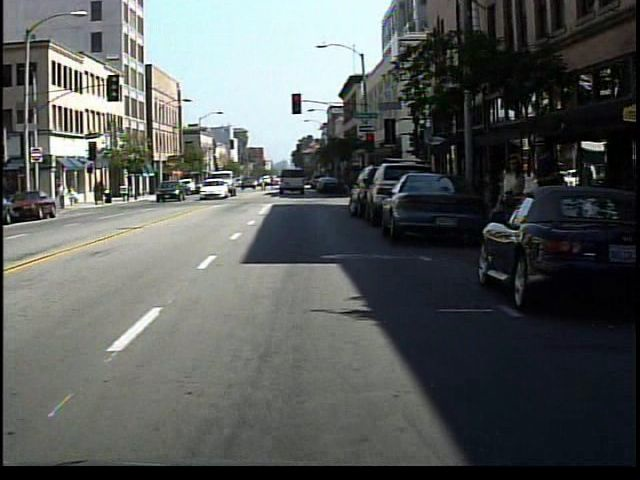person: (530, 133, 567, 269), (499, 153, 527, 264), (56, 181, 70, 213), (68, 183, 83, 209)
